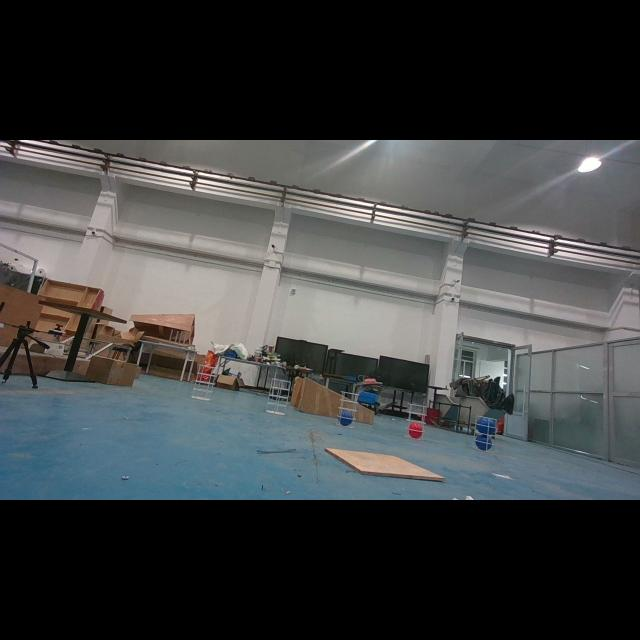B: (476, 418, 496, 434), (476, 434, 492, 451), (338, 410, 354, 426)
R: (409, 422, 423, 438)
S: (190, 361, 220, 403), (264, 377, 294, 418), (470, 415, 500, 455), (334, 389, 362, 431), (402, 402, 430, 442)
